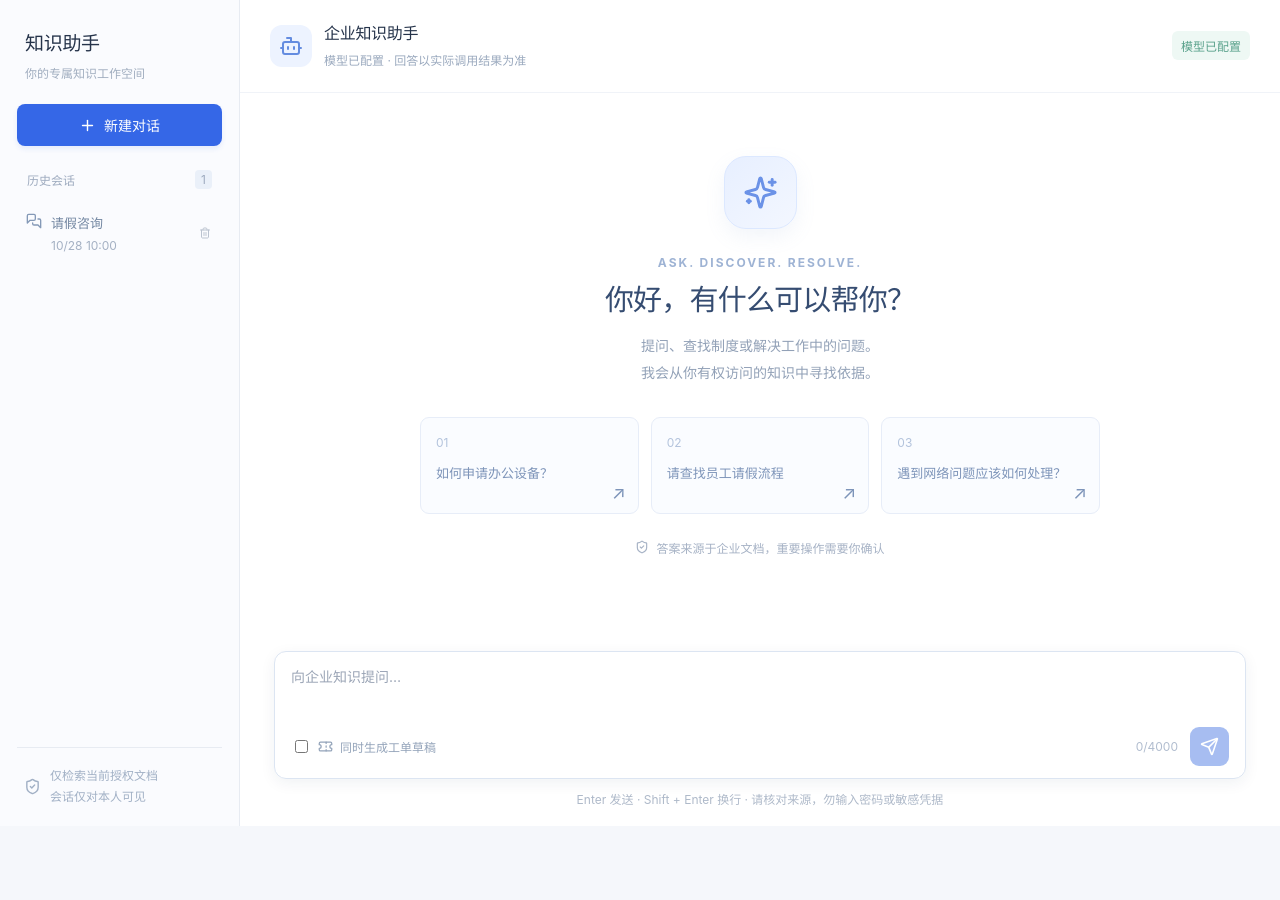
Scenario: shows only cited sources with their original numbers: 员工提交请假审批[1]。审批后同步考勤[1]。
What coordinates should you click on to do the following:
click the button "请假咨询 10/28 10:00"
I would click on:
 (104, 233)
Its box is [17,201,191,265].
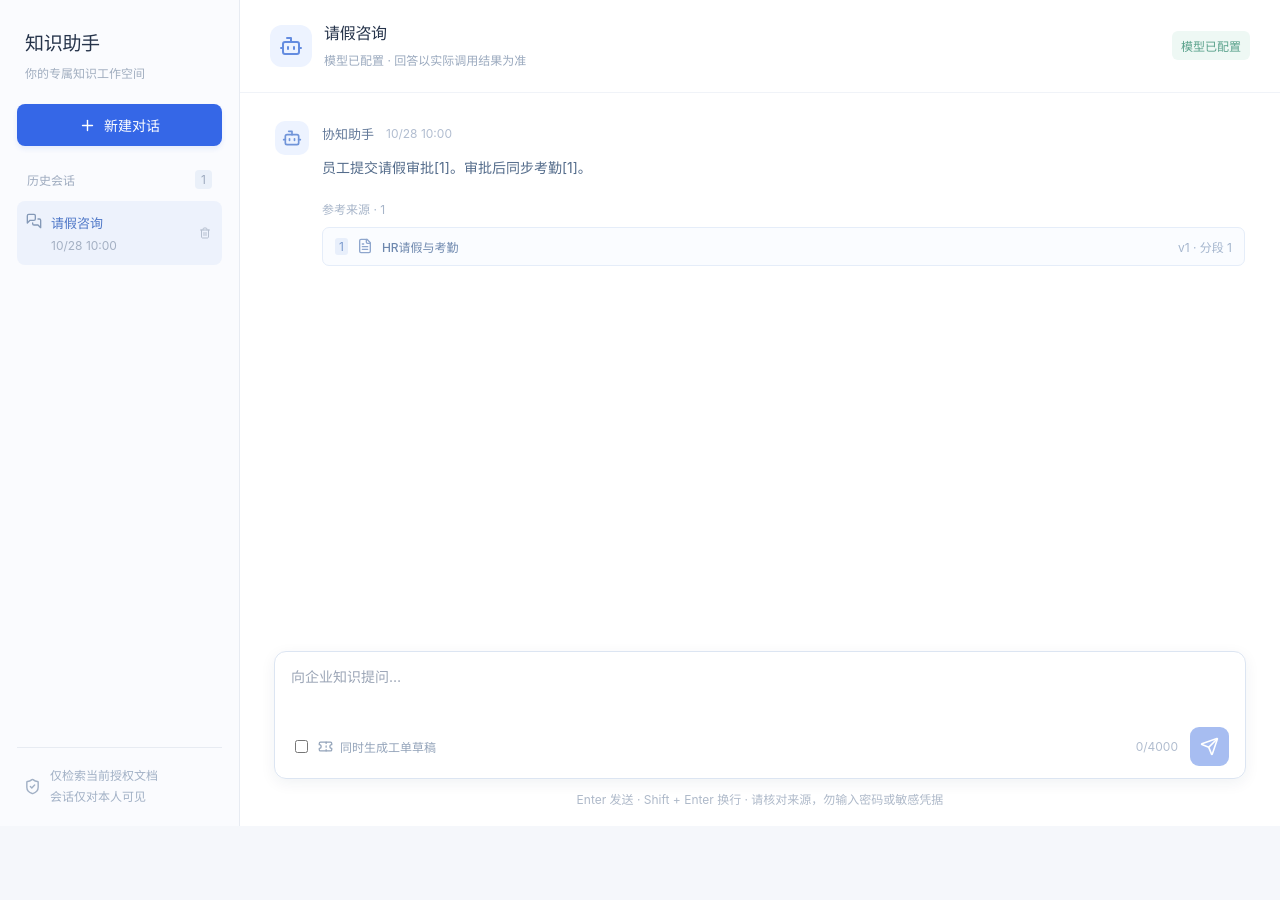
Now the text "员工提交请假审批[1]。审批后同步考勤[1]。" is shown, box [322,159,592,176]
Now the button "1 HR请假与考勤 v1 · 分段 1" is shown
Now the text "1" below "参考来源 ·" is shown, box [339,239,344,254]
What coordinates should you click on to do the following:
click the button "1 HR请假与考勤 v1 · 分段 1"
I would click on:
 (420, 247)
Its box is [322,227,1245,266].
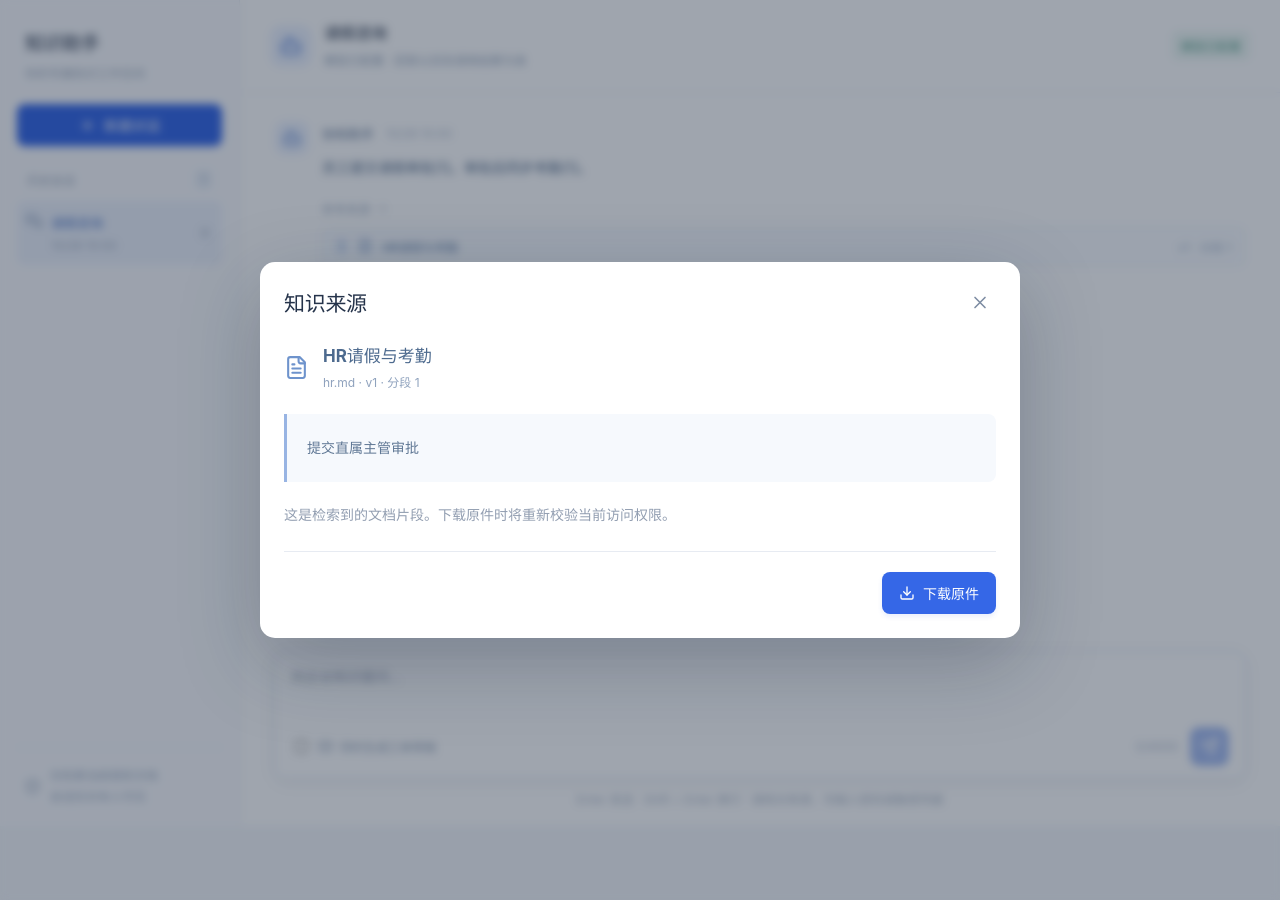
Now the text "提交直属主管审批" is shown, box [284,414,996,482]
